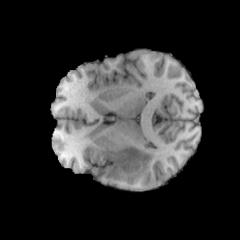glioma: (106, 145, 154, 183)
